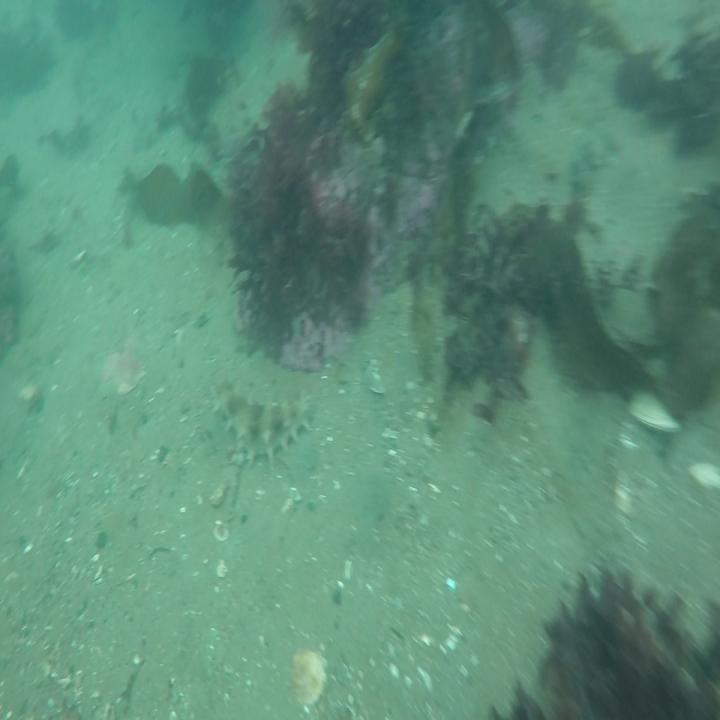holothurian: (204, 367, 316, 462)
scallop: (624, 385, 682, 435), (96, 343, 149, 395), (289, 646, 327, 708)
